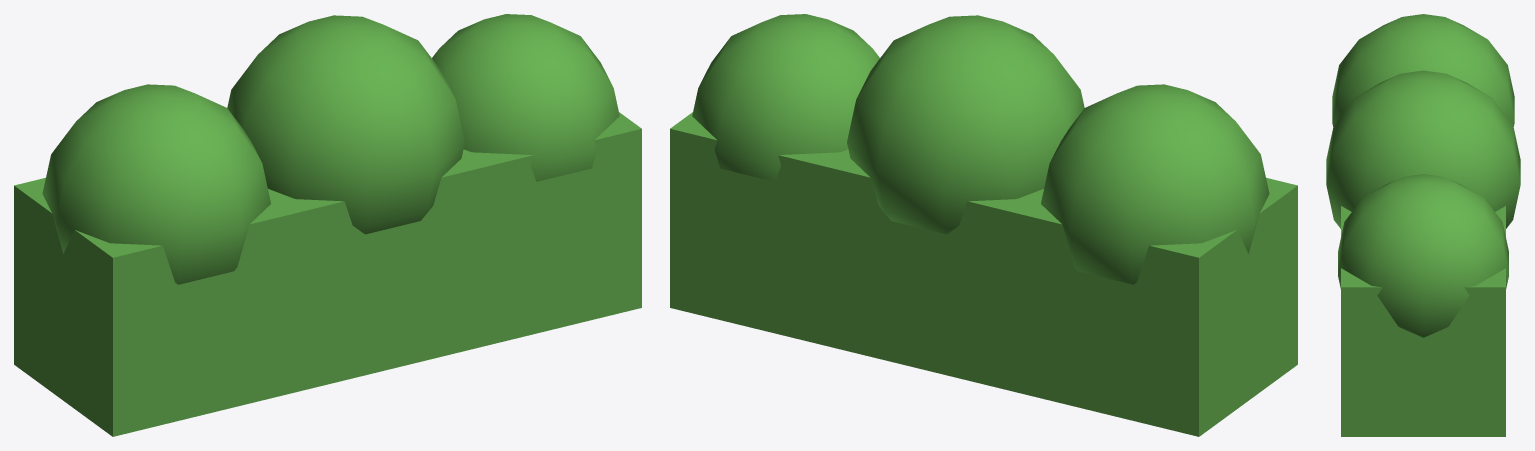
Rendered from hedge.glb.
3 views of the same model, side by side, from view 1: azimuth 30°, elevation 25°; view 2: azimuth 150°, elevation 25°; view 3: azimuth 270°, elevation 25° (orthographic). The views are drawn at different scales.
Bounding box in the file's own units: 1.77 × 0.94 × 0.6467.
